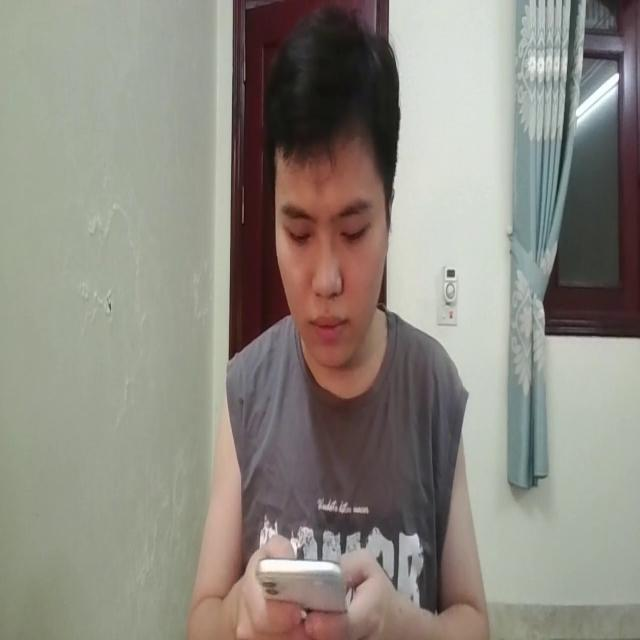phone: (256, 539, 355, 624)
student: (197, 1, 487, 640)
